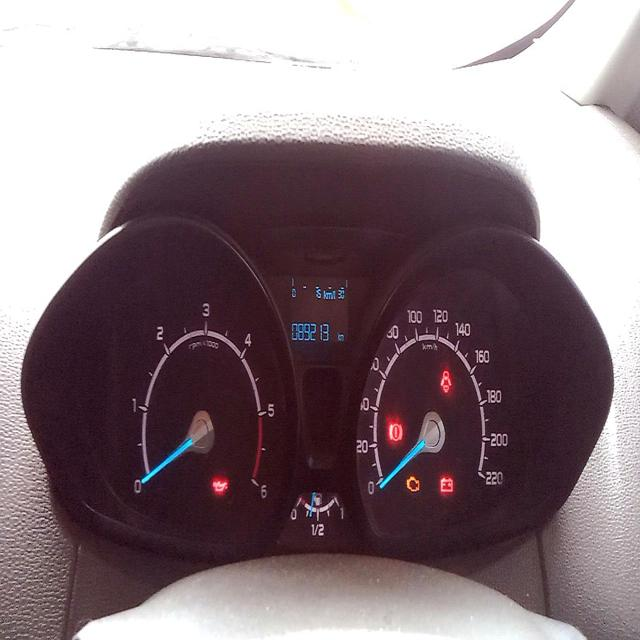odometer: (288, 317, 331, 349)
